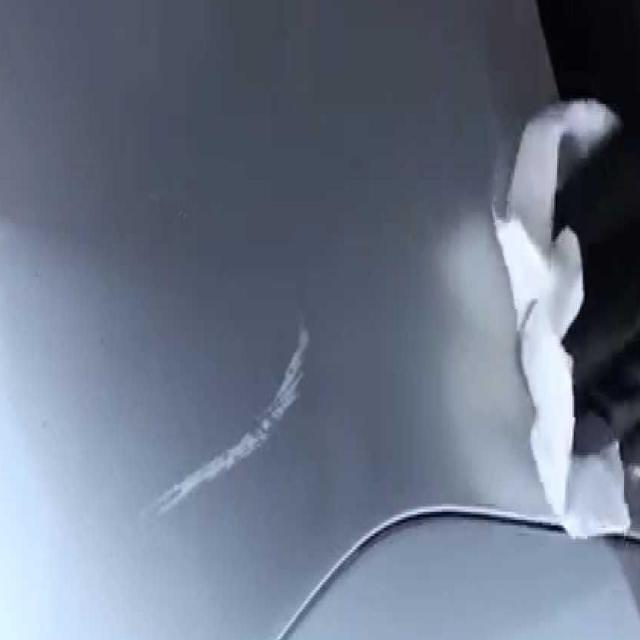scratch: (136, 304, 319, 524)
